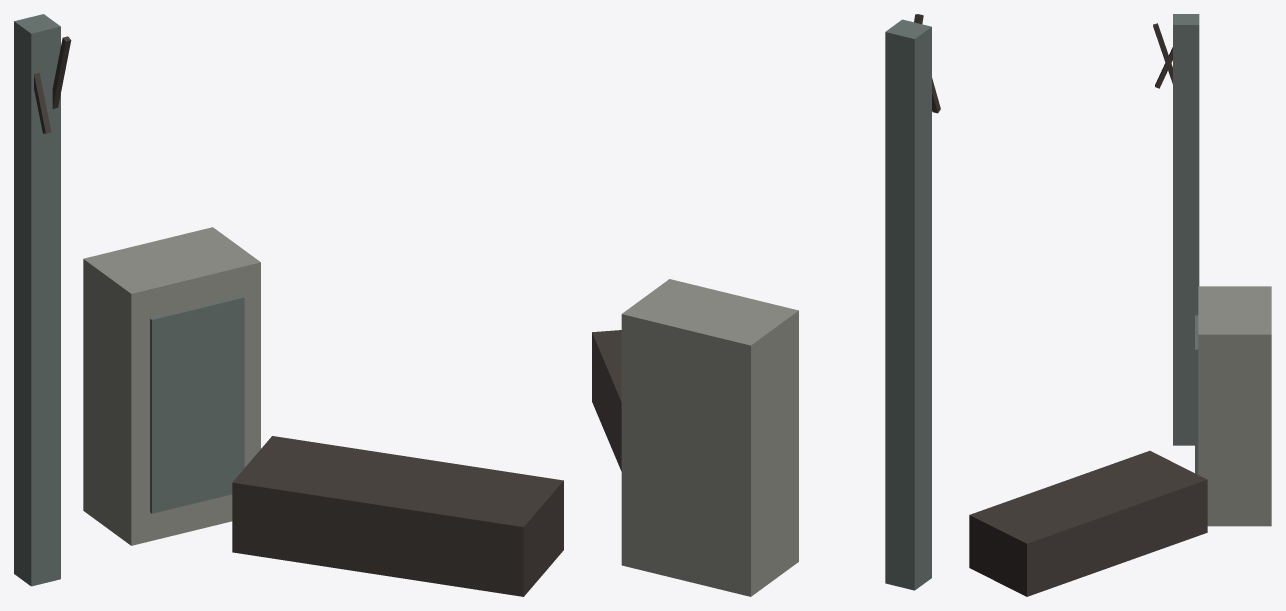
The model's file is SM_senal_via_v4_LOD0.fbx.
3 renders of one model, left to right at view 1: azimuth 30°, elevation 25°; view 2: azimuth 150°, elevation 25°; view 3: azimuth 270°, elevation 25°, orthographic. The views are drawn at different scales.
Parts seen in each view (by area): view 1: SM_bloques.senal_via_v4_LOD0; view 2: SM_bloques.senal_via_v4_LOD0; view 3: SM_bloques.senal_via_v4_LOD0.
Part boxes in pixels (box(x1,y1,x2,y2)): SM_bloques.senal_via_v4_LOD0: box(14, 14, 563, 596); SM_bloques.senal_via_v4_LOD0: box(592, 14, 940, 596); SM_bloques.senal_via_v4_LOD0: box(969, 14, 1271, 596).
Bounding box in the file's own units: 2.36 × 2.85 × 1.86.
